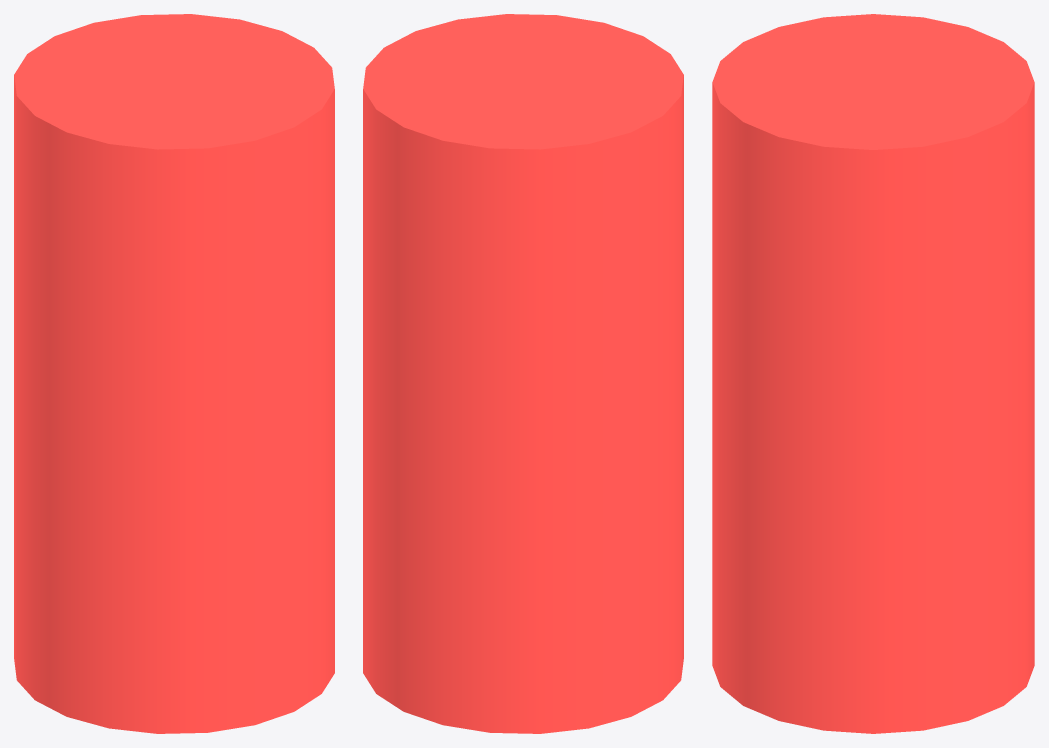
Rendered from RedLight.fbx.
3 views of the same model, side by side, from view 1: azimuth 30°, elevation 25°; view 2: azimuth 150°, elevation 25°; view 3: azimuth 270°, elevation 25° (orthographic).
Visible parts, largest first — view 1: RedLight; view 2: RedLight; view 3: RedLight.
Part boxes in pixels (x1,y1,x2,y2): RedLight: [14, 14, 334, 733]; RedLight: [363, 14, 683, 733]; RedLight: [712, 14, 1034, 733].
Size of the model in its own units: 100 by 200 by 100.
